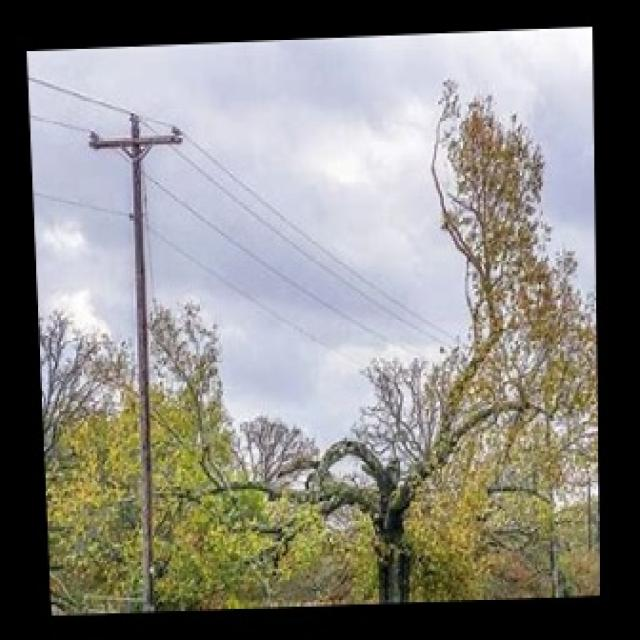utility poles: (86, 91, 199, 614)
